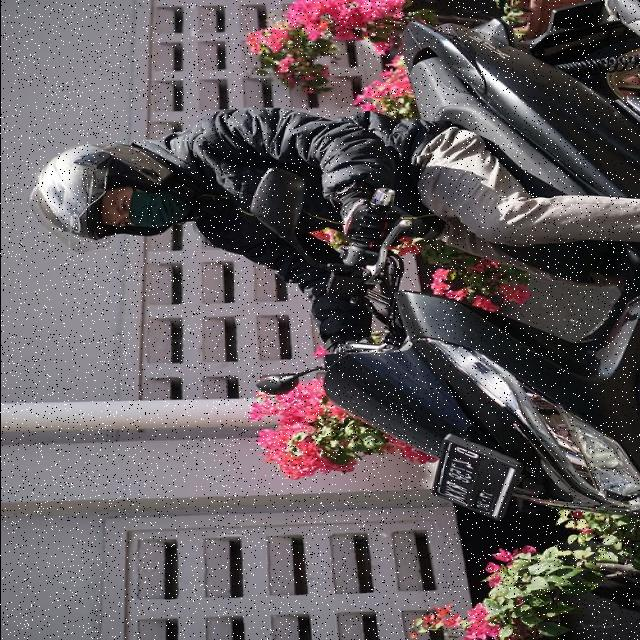Helmet: (28, 144, 172, 252)
